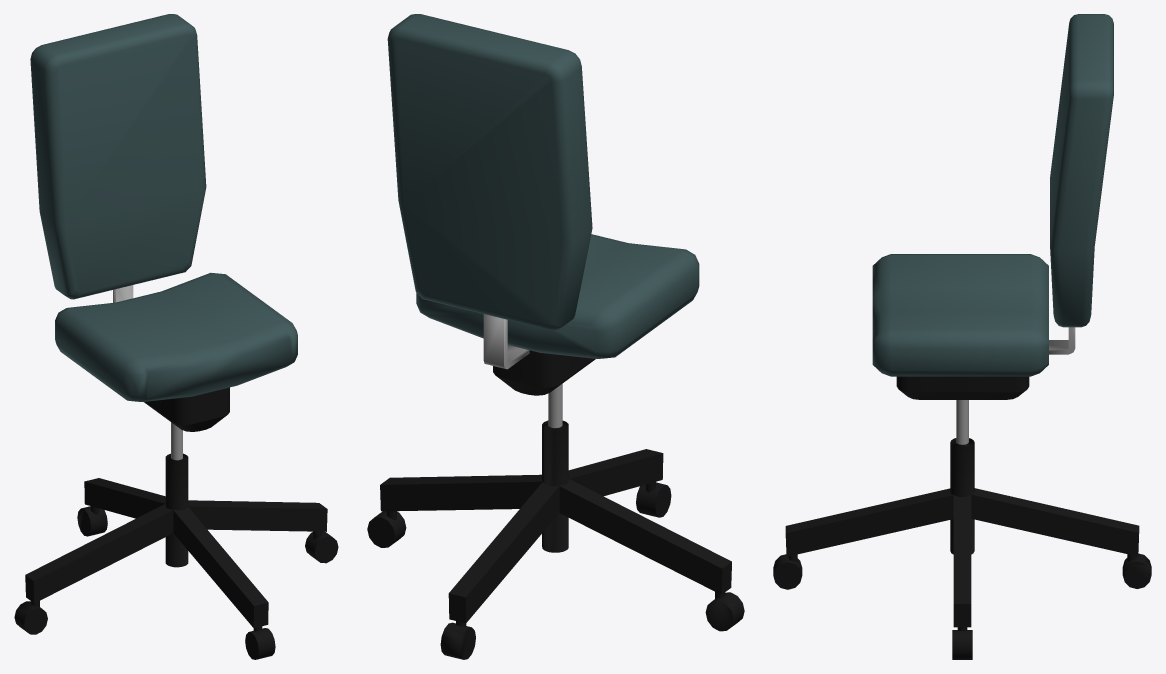
File: kontorstolUpdated 1.fbx
3 views of the same model, side by side, from view 1: azimuth 30°, elevation 25°; view 2: azimuth 150°, elevation 25°; view 3: azimuth 270°, elevation 25° (orthographic). The views are drawn at different scales.
Parts seen in each view (by area): view 1: Cube.010; view 2: Cube.010; view 3: Cube.010.
Part boxes in pixels (left/top/right/bottom): Cube.010: left=14, top=14, right=338, bottom=659; Cube.010: left=367, top=14, right=744, bottom=659; Cube.010: left=773, top=14, right=1151, bottom=659.
Bounding box in the file's own units: 86.22 × 135 × 86.22.
